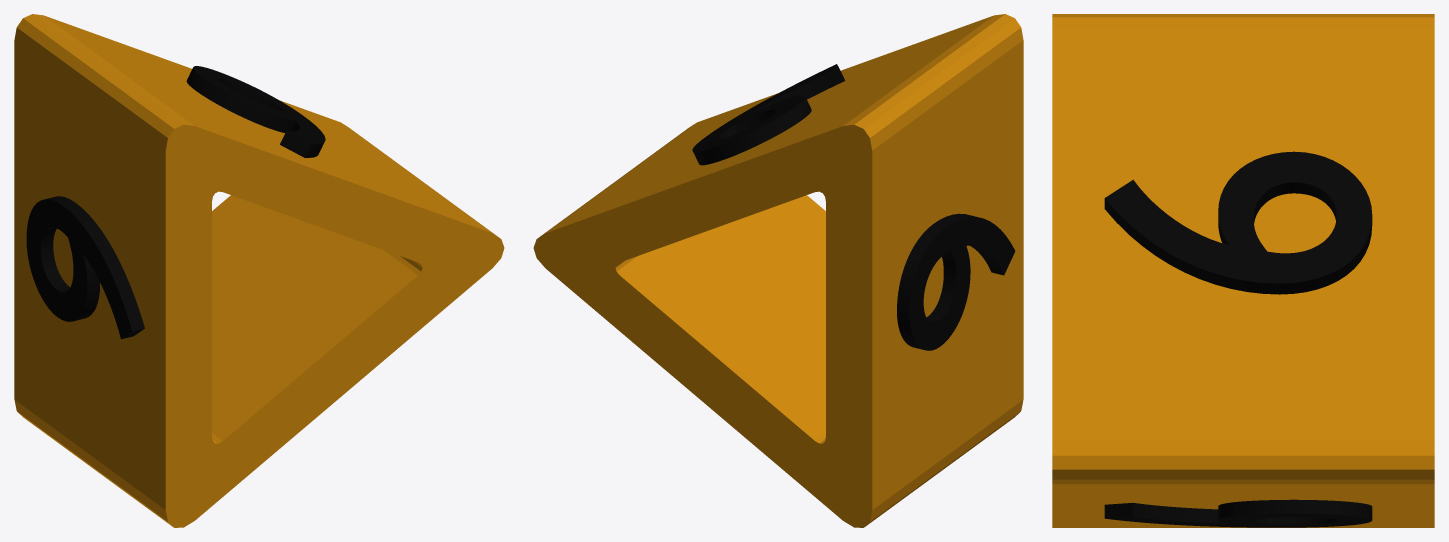
The model's file is Six_shadow.OBJ.
3 renders of one model, left to right at view 1: azimuth 30°, elevation 25°; view 2: azimuth 150°, elevation 25°; view 3: azimuth 270°, elevation 25°, orthographic. The views are drawn at different scales.
Visible parts, largest first — view 1: /ambf/icl/Six_shadow_PuzzleYellow; view 2: /ambf/icl/Six_shadow_PuzzleYellow; view 3: /ambf/icl/Six_shadow_PuzzleYellow.
Part boxes in pixels (box(x1,y1,x2,y2)): /ambf/icl/Six_shadow_PuzzleYellow: box(14, 14, 504, 527); /ambf/icl/Six_shadow_PuzzleYellow: box(533, 14, 1023, 527); /ambf/icl/Six_shadow_PuzzleYellow: box(1052, 14, 1434, 527).
Size of the model in its own units: 0.1301 by 0.1426 by 0.097.
